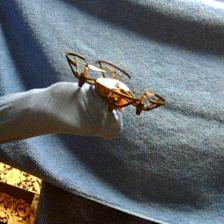drone: (68, 50, 168, 116)
